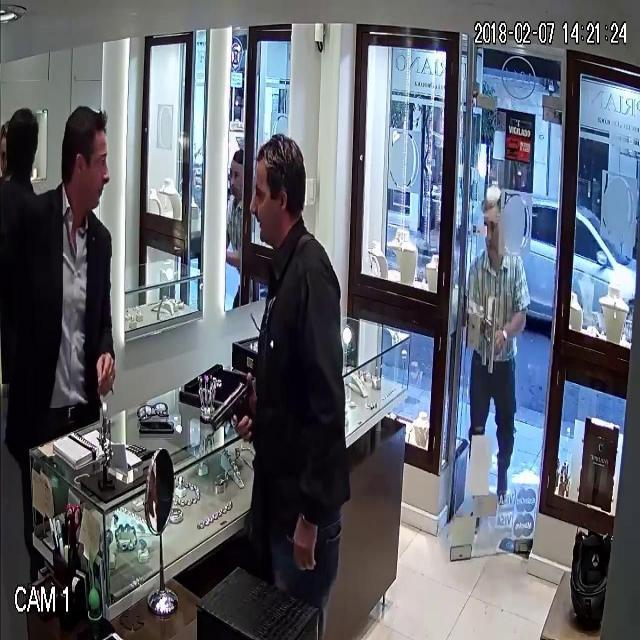weapon: (198, 364, 267, 458)
